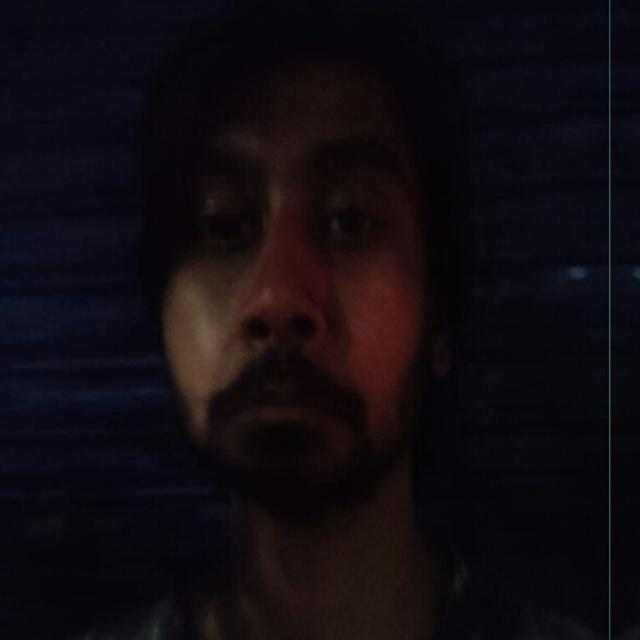Sad: (130, 57, 468, 535)
